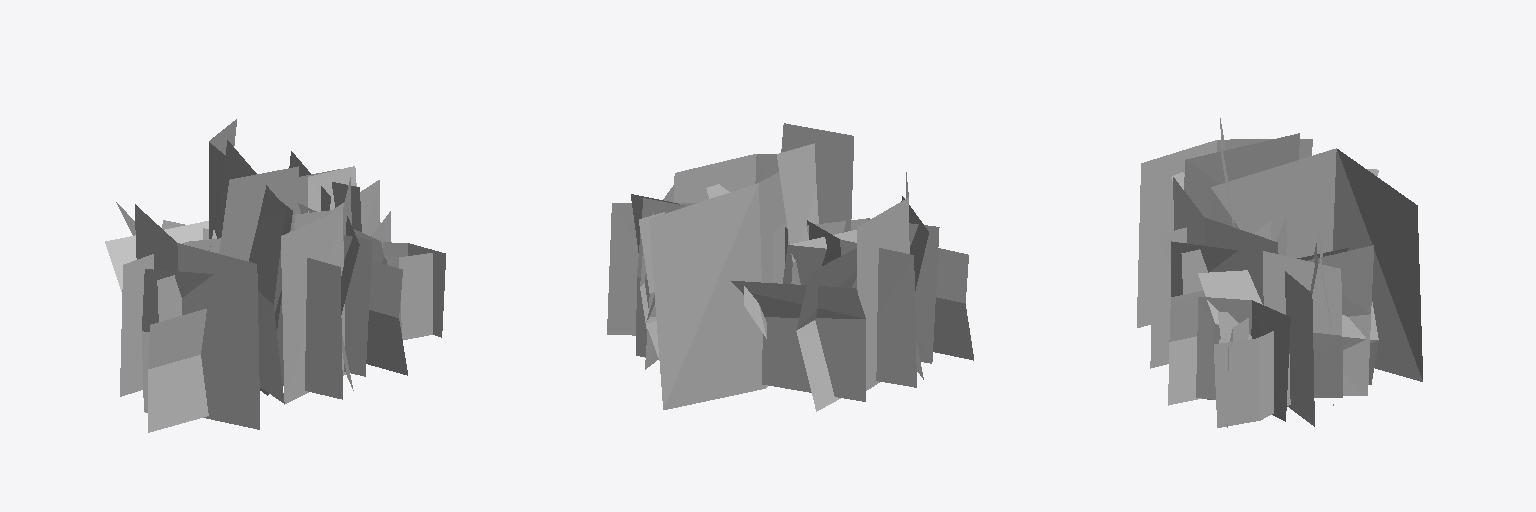
File: Grass.obj
The picture shows the model from 3 angles: view 1: azimuth 30°, elevation 25°; view 2: azimuth 150°, elevation 25°; view 3: azimuth 270°, elevation 25°; orthographic projection.
Visible parts, largest first — view 1: clump_dry_grass_11, clump_dry_grass_7, clump_dry_grass_10, clump_dry_grass_9, clump_dry_grass_8, clump_dry_grass_6, clump_dry_grass_5; view 2: clump_dry_grass_8, clump_dry_grass_11, clump_dry_grass_10, clump_dry_grass_6, clump_dry_grass_7, clump_dry_grass_5; view 3: clump_dry_grass_8, clump_dry_grass_6, clump_dry_grass_7, clump_dry_grass_9, clump_dry_grass_11, clump_dry_grass_10, clump_dry_grass_5.
Boxes of the visible parts, x1=… form: clump_dry_grass_11: x1=120, y1=204, x2=259, y2=432; clump_dry_grass_7: x1=274, y1=177, x2=407, y2=404; clump_dry_grass_10: x1=217, y1=140, x2=298, y2=403; clump_dry_grass_9: x1=371, y1=211, x2=445, y2=339; clump_dry_grass_8: x1=105, y1=119, x2=292, y2=395; clump_dry_grass_6: x1=294, y1=166, x2=383, y2=262; clump_dry_grass_5: x1=289, y1=151, x2=339, y2=213; clump_dry_grass_8: x1=649, y1=172, x2=865, y2=411; clump_dry_grass_11: x1=806, y1=172, x2=973, y2=390; clump_dry_grass_10: x1=777, y1=123, x2=853, y2=284; clump_dry_grass_6: x1=607, y1=185, x2=695, y2=357; clump_dry_grass_7: x1=674, y1=154, x2=789, y2=283; clump_dry_grass_5: x1=636, y1=198, x2=686, y2=369; clump_dry_grass_8: x1=1210, y1=148, x2=1422, y2=381; clump_dry_grass_6: x1=1198, y1=219, x2=1378, y2=426; clump_dry_grass_7: x1=1150, y1=177, x2=1278, y2=405; clump_dry_grass_9: x1=1196, y1=297, x2=1290, y2=427; clump_dry_grass_11: x1=1137, y1=139, x2=1312, y2=327; clump_dry_grass_10: x1=1184, y1=118, x2=1299, y2=227; clump_dry_grass_5: x1=1308, y1=235, x2=1373, y2=405.
Size of the model in its own units: 1.37 by 0.9476 by 1.08.